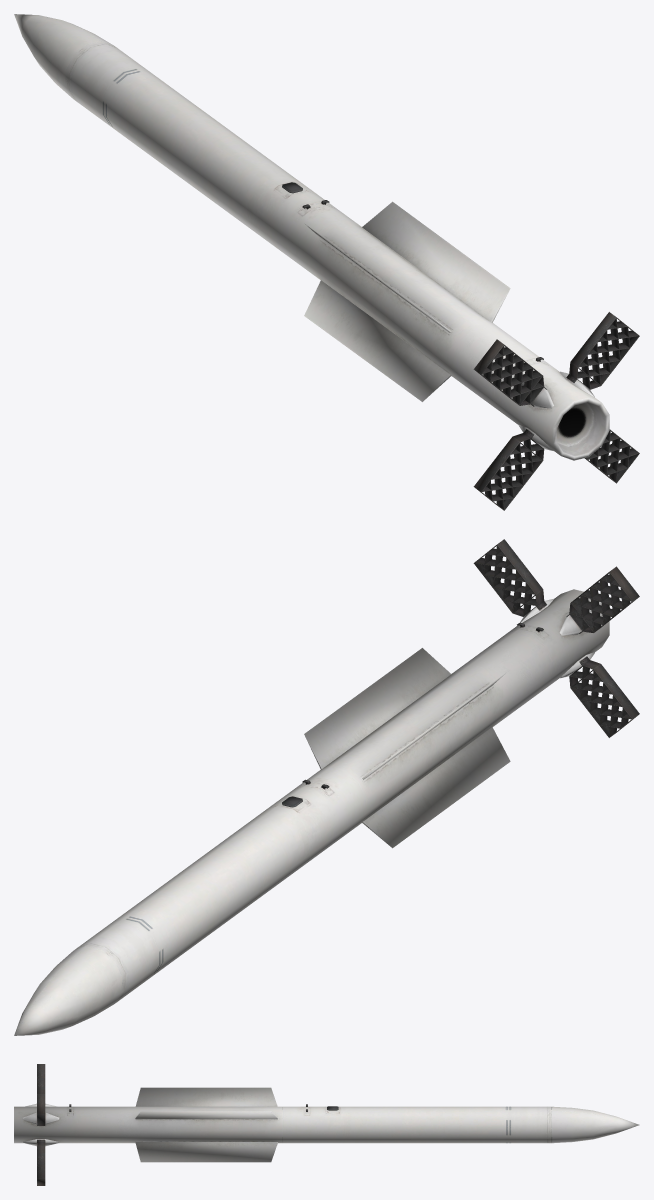
3 views of the same model, one above another, from view 1: azimuth 30°, elevation 25°; view 2: azimuth 150°, elevation 25°; view 3: azimuth 270°, elevation 25° (orthographic). The views are drawn at different scales.
Visible parts, largest first — view 1: R-77_9; view 2: R-77_9; view 3: R-77_9.
Part boxes in pixels (box(x1,y1,x2,y2)): R-77_9: box(14, 14, 639, 510); R-77_9: box(14, 539, 639, 1035); R-77_9: box(14, 1064, 639, 1185).
Size of the model in its own units: 0.5786 by 0.5786 by 3.58.
1 material, 1 textured.
